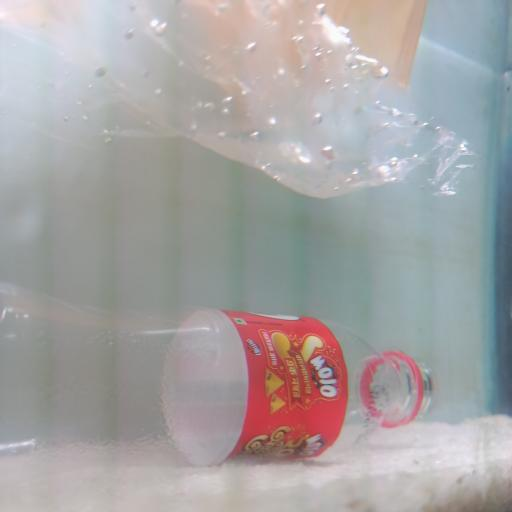mask: (168, 2, 430, 102)
plastic_bag: (15, 2, 512, 206)
plastic_bottle: (0, 289, 436, 462)
